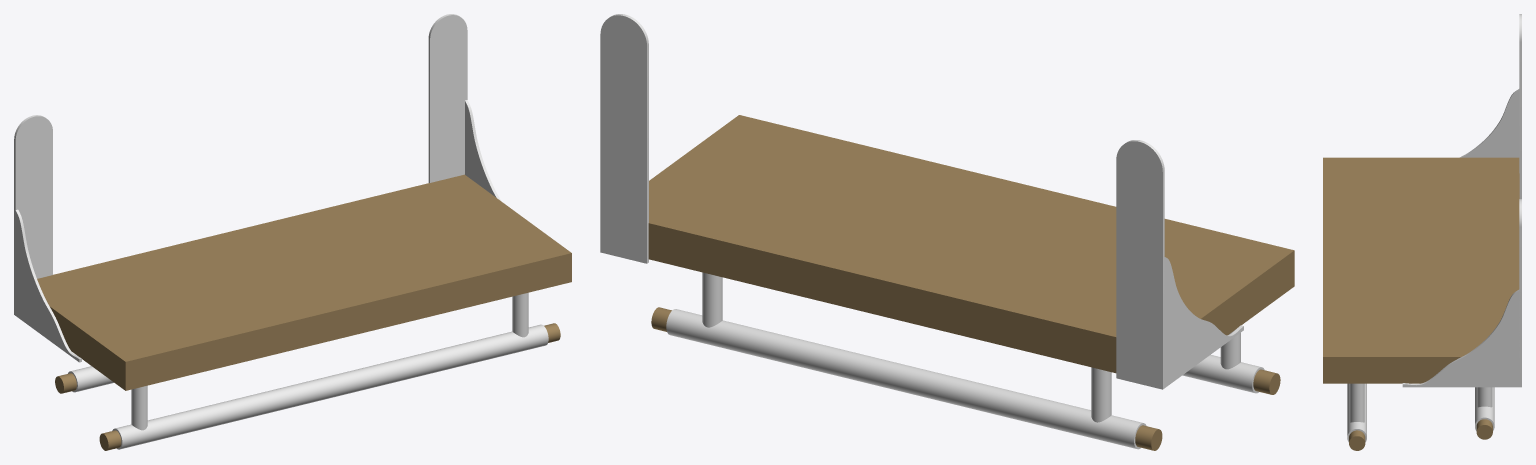
3 renders of one model, left to right at view 1: azimuth 30°, elevation 25°; view 2: azimuth 150°, elevation 25°; view 3: azimuth 270°, elevation 25°, orthographic. The views are drawn at different scales.
Parts seen in each view (by area): view 1: platform; view 2: platform; view 3: platform.
Part boxes in pixels (left/top/right/bottom): platform: left=14, top=14, right=571, bottom=450; platform: left=600, top=14, right=1294, bottom=450; platform: left=1323, top=14, right=1521, bottom=450.
Bounding box in the file's own units: 0.7 × 0.3935 × 0.2915.
